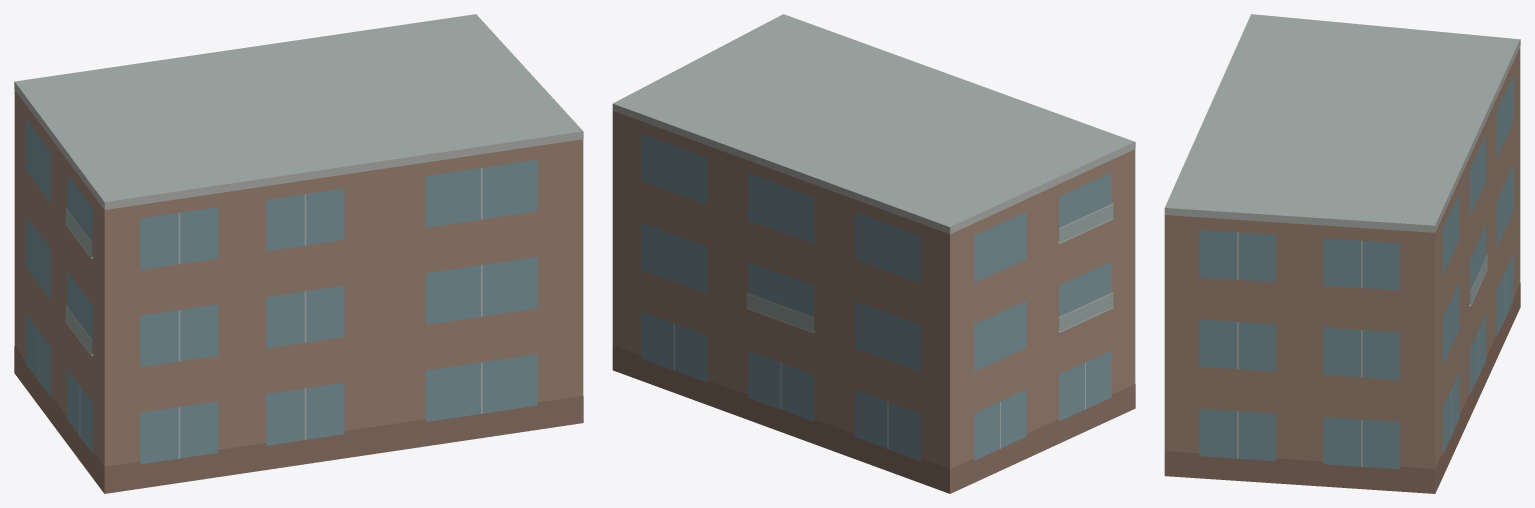
File: survey-upis-32490743.glb
The picture shows the model from 3 angles, left to right: view 1: azimuth 30°, elevation 25°; view 2: azimuth 150°, elevation 25°; view 3: azimuth 270°, elevation 25°; orthographic projection. The views are drawn at different scales.
Parts seen in each view (by area): view 1: survey-upis-32490743.tmp; view 2: survey-upis-32490743.tmp; view 3: survey-upis-32490743.tmp.
Boxes of the visible parts, bbox=[...] form: survey-upis-32490743.tmp: bbox=[14, 14, 583, 493]; survey-upis-32490743.tmp: bbox=[612, 14, 1135, 493]; survey-upis-32490743.tmp: bbox=[1164, 14, 1520, 493].
Bounding box in the file's own units: 15.5 × 9.15 × 11.01.
